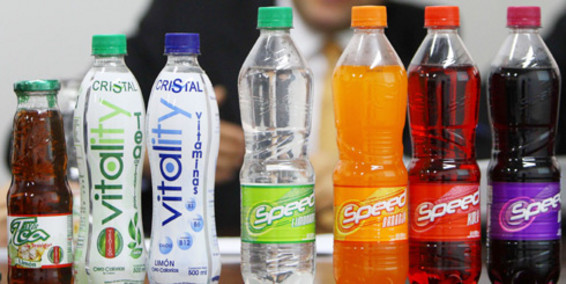botella: (236, 4, 320, 283), (329, 4, 408, 284), (487, 6, 564, 284), (411, 4, 484, 284), (148, 32, 223, 284), (74, 32, 146, 284), (6, 79, 71, 284)
